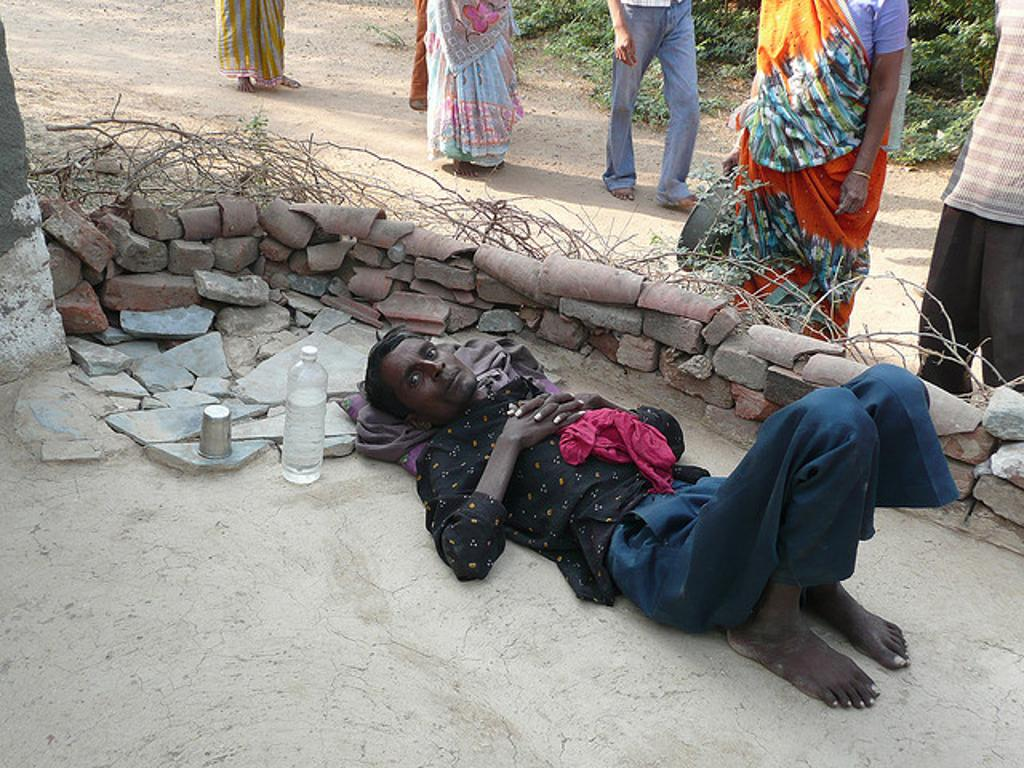face: (394, 336, 472, 406)
